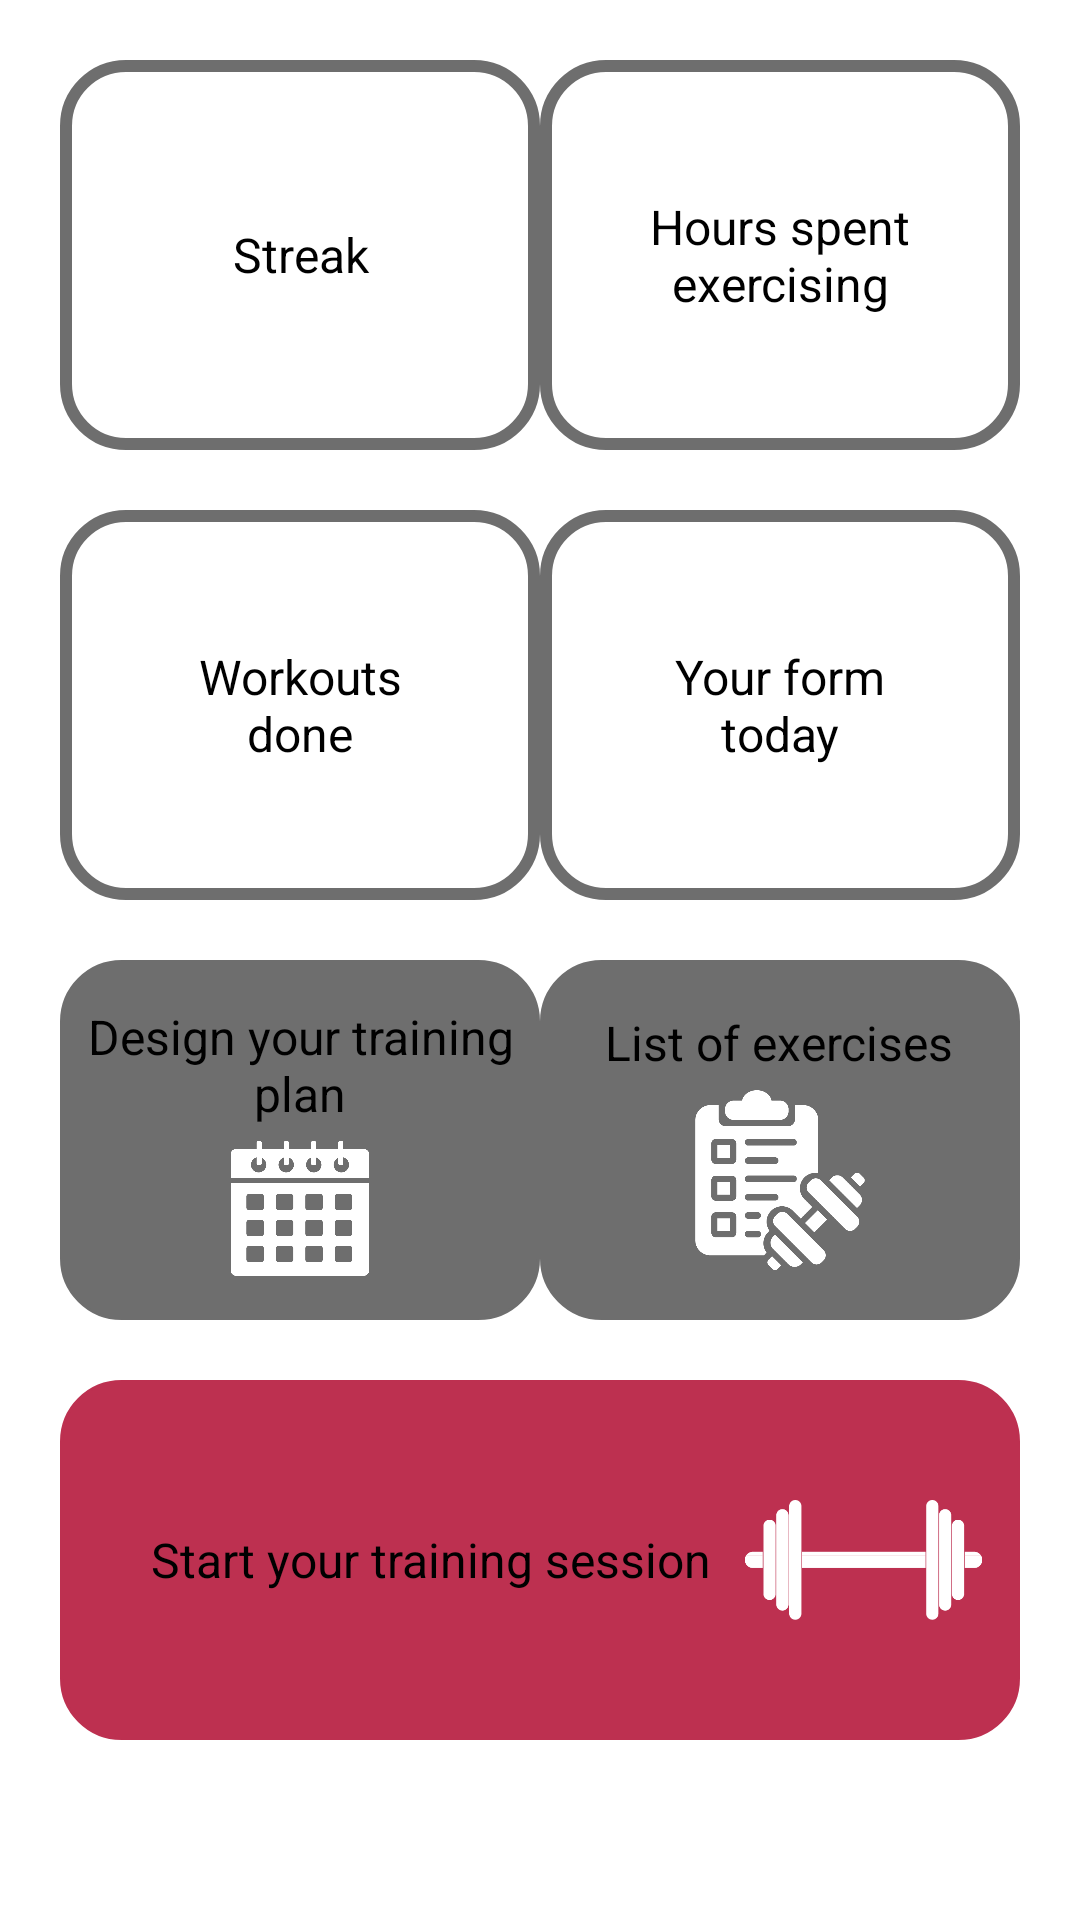

Screen size 1080*1920. Icon name, then its box in pixels as (x1, y1, x2, y2):
personal plan: (231, 1141, 369, 1276)
